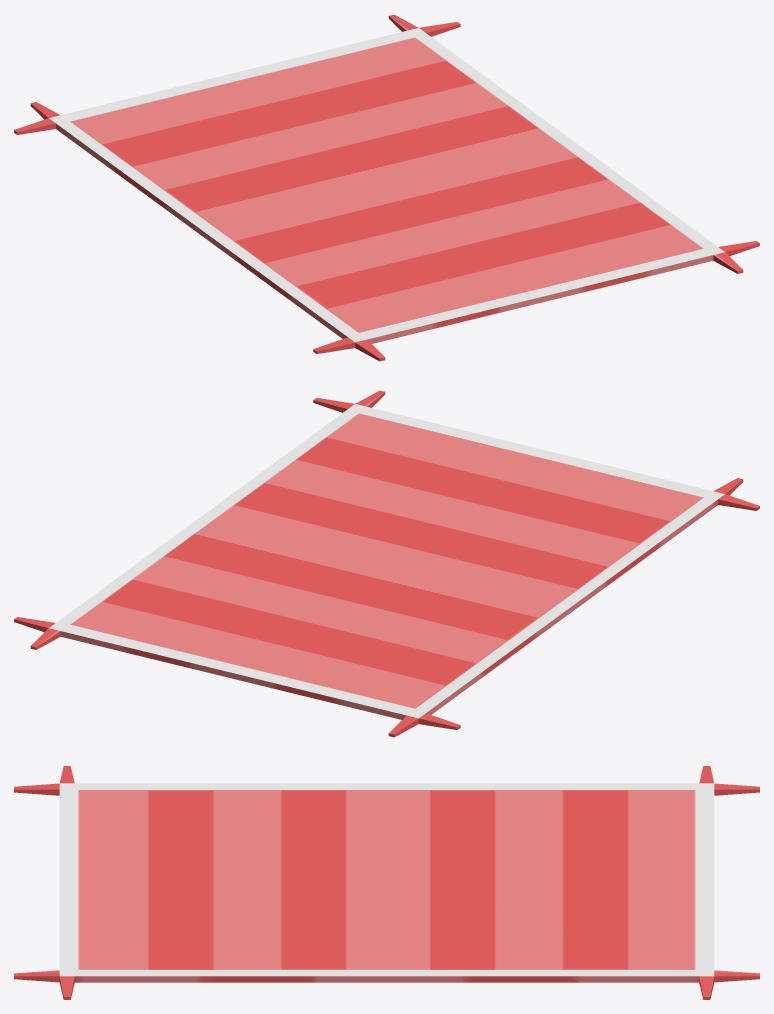
Rendered from MP_Rug.fbx.
3 views of the same model, one above another, from view 1: azimuth 30°, elevation 25°; view 2: azimuth 150°, elevation 25°; view 3: azimuth 270°, elevation 25° (orthographic). The views are drawn at different scales.
Visible parts, largest first — view 1: Rug; view 2: Rug; view 3: Rug.
Part boxes in pixels (<box>): Rug: <box>14,14,759,361</box>; Rug: <box>14,390,759,737</box>; Rug: <box>14,766,759,999</box>.
Bounding box in the file's own units: 185 × 2.27 × 252.
1 material, 1 textured.
